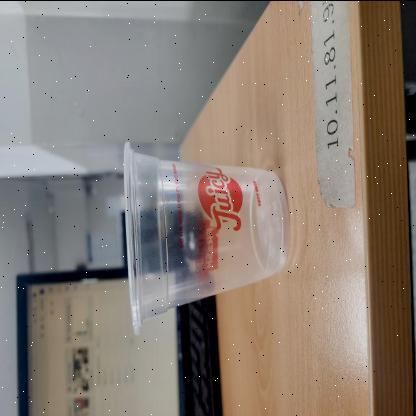Others: (122, 136, 290, 334)
